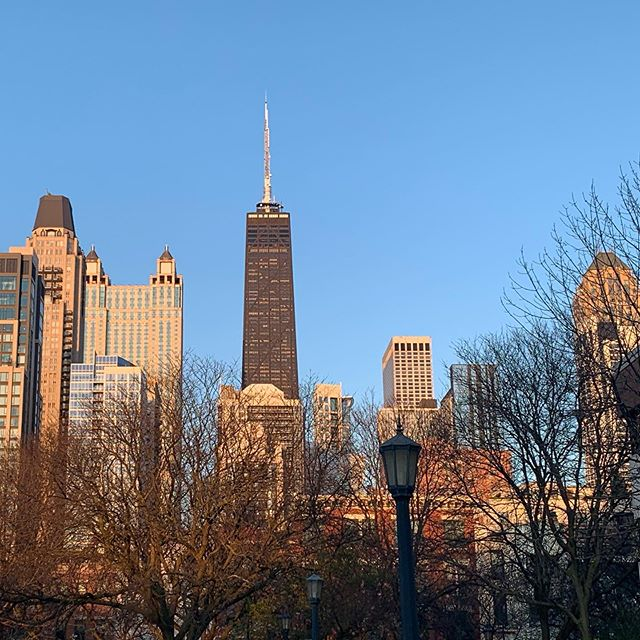building: (76, 256, 195, 552), (1, 190, 83, 493), (227, 198, 310, 495), (571, 250, 640, 493), (367, 325, 442, 431)
light pole: (364, 416, 426, 640)
sky: (1, 1, 628, 254)
vegetation: (1, 300, 628, 640)
